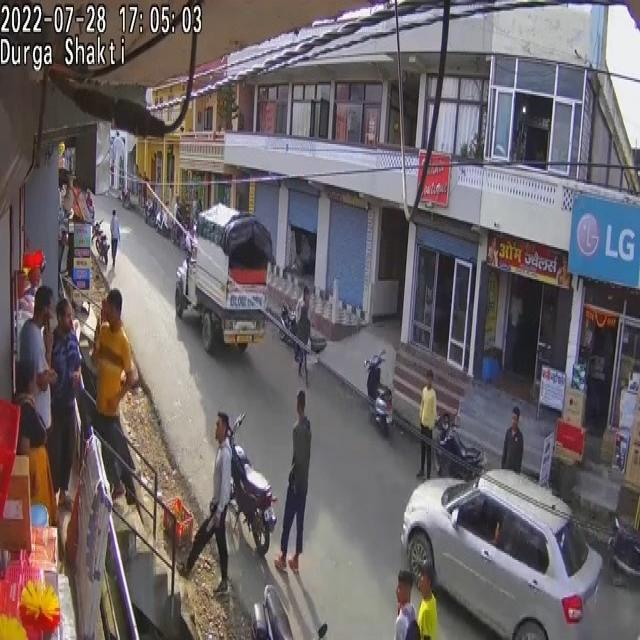non-fight: (92, 288, 139, 504), (186, 407, 234, 592), (15, 354, 59, 534), (49, 296, 86, 495), (274, 388, 310, 574), (419, 369, 438, 479), (394, 569, 422, 640), (290, 415, 311, 493), (295, 290, 311, 391), (213, 436, 233, 513), (501, 408, 524, 474), (185, 181, 204, 226), (110, 210, 120, 270)
